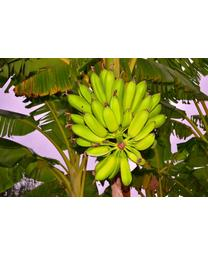banana: (64, 69, 166, 186)
